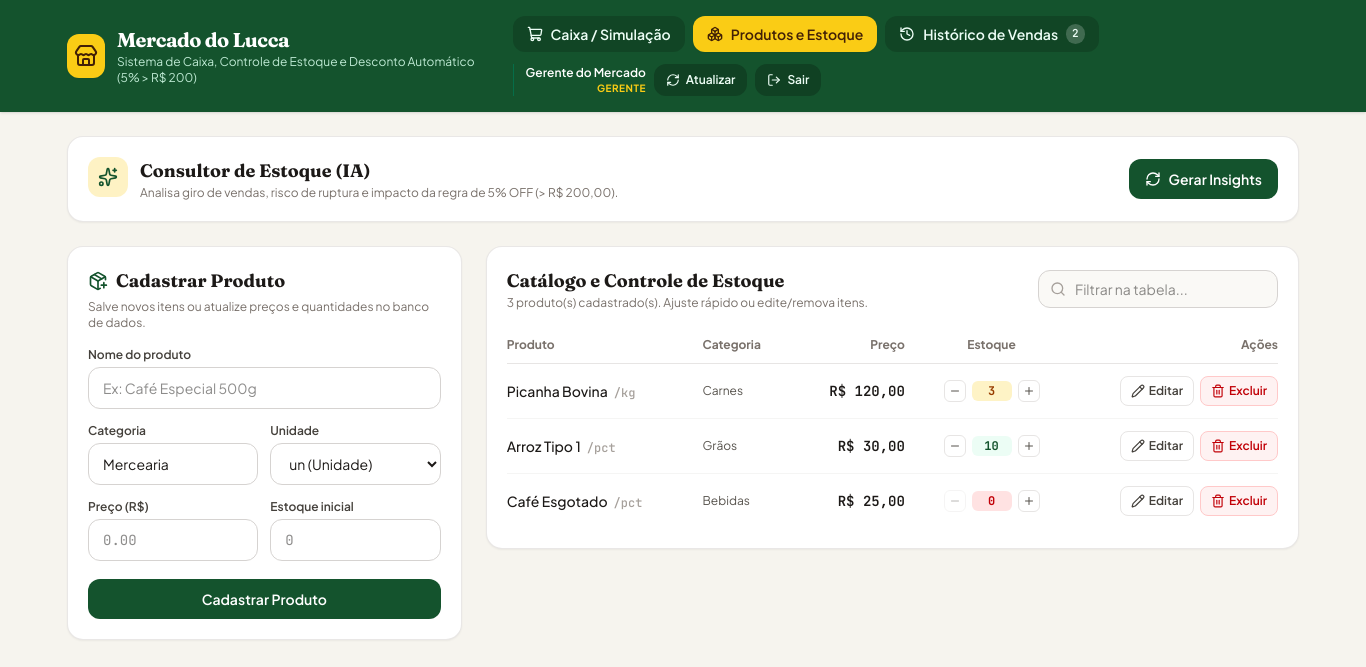
Test case: Mercado do Lucca — Fluxos completos com Auth e RBAC › gera insights de estoque (Gemini, fallback local, erro e reposição rápida)
The image size is (1366, 667).
Check: the heading "Consultor de Estoque (IA)" is shown, box [140,157,371,185]
// Consulta com retorno Gemini AI e reposição rápida
Click the button "Gerar Insights".
click(1203, 179)  # box [1128,159,1278,199]
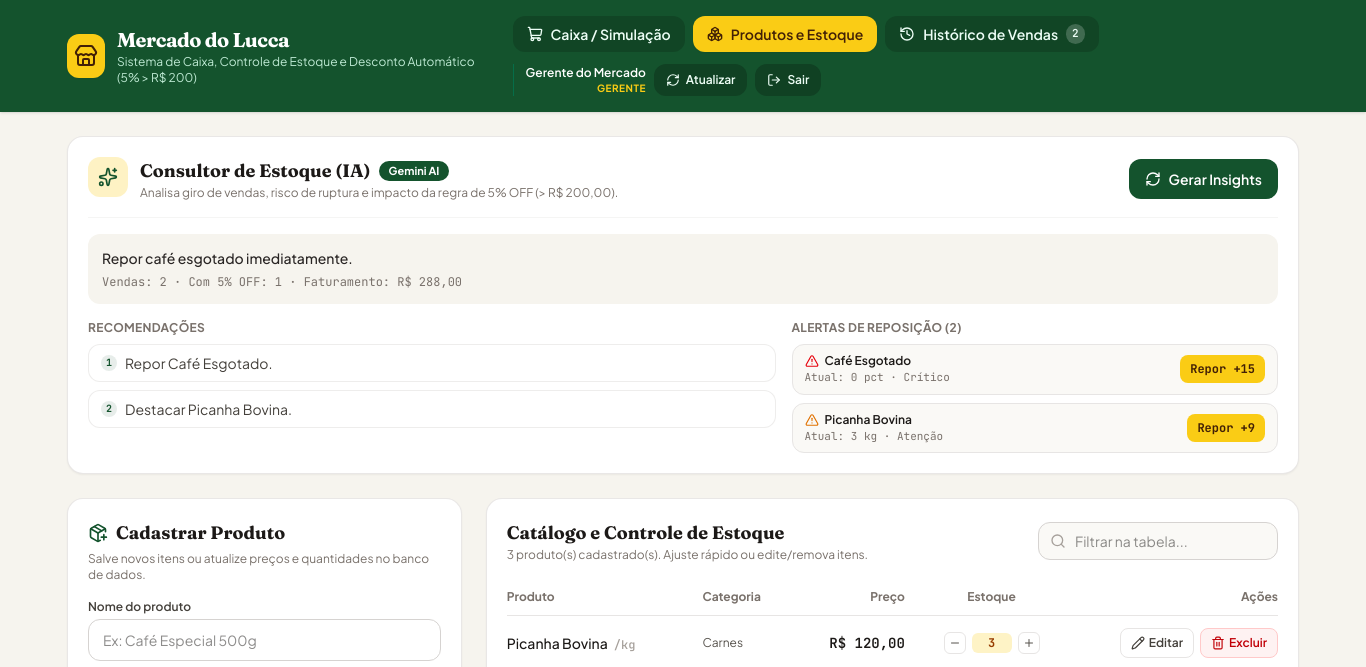
Check: the text "Gemini AI" is shown, box [379,161,449,181]
Check: the text "Repor café esgotado imediatamente." is shown, box [102,249,353,267]
Check: the text "Repor Café Esgotado." is shown, box [125,353,272,373]
Click the button "Repor +15".
click(1223, 369)  # box [1180,355,1265,383]
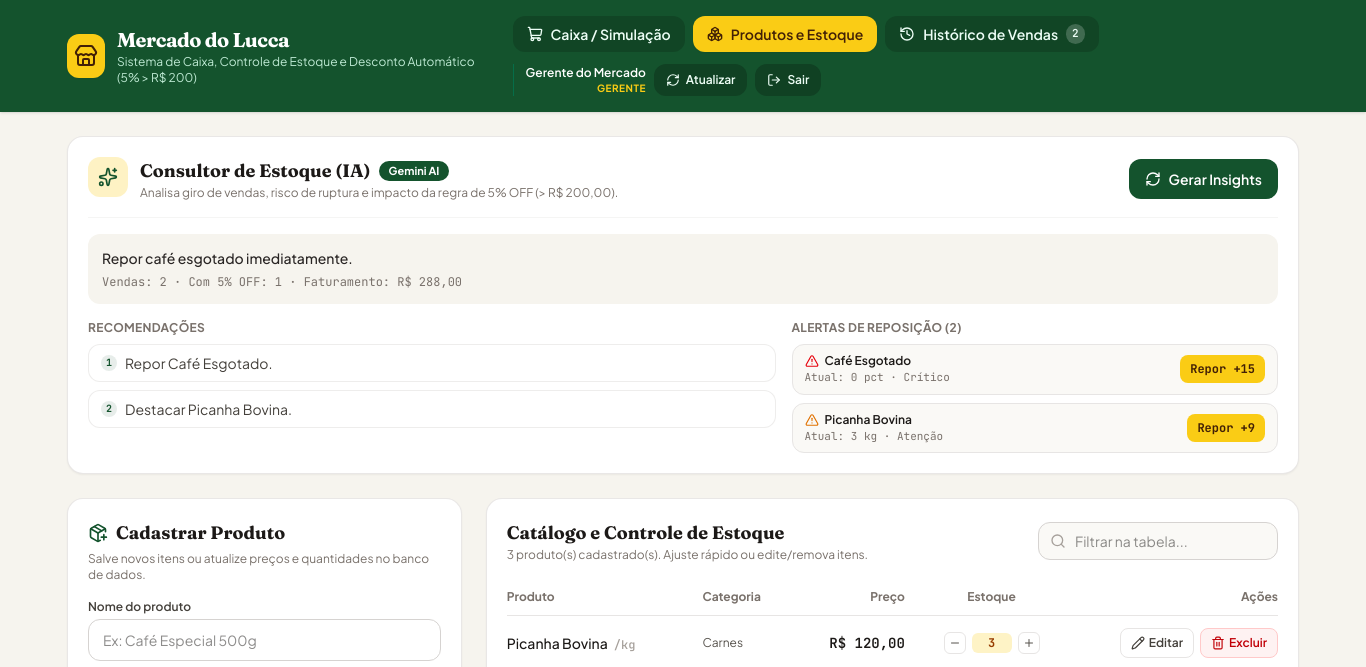
Check: the text "Repor café esgotado imediatamente." is shown, box [102,249,353,267]
Click the button "Gerar Insights".
click(1203, 179)  # box [1128,159,1278,199]
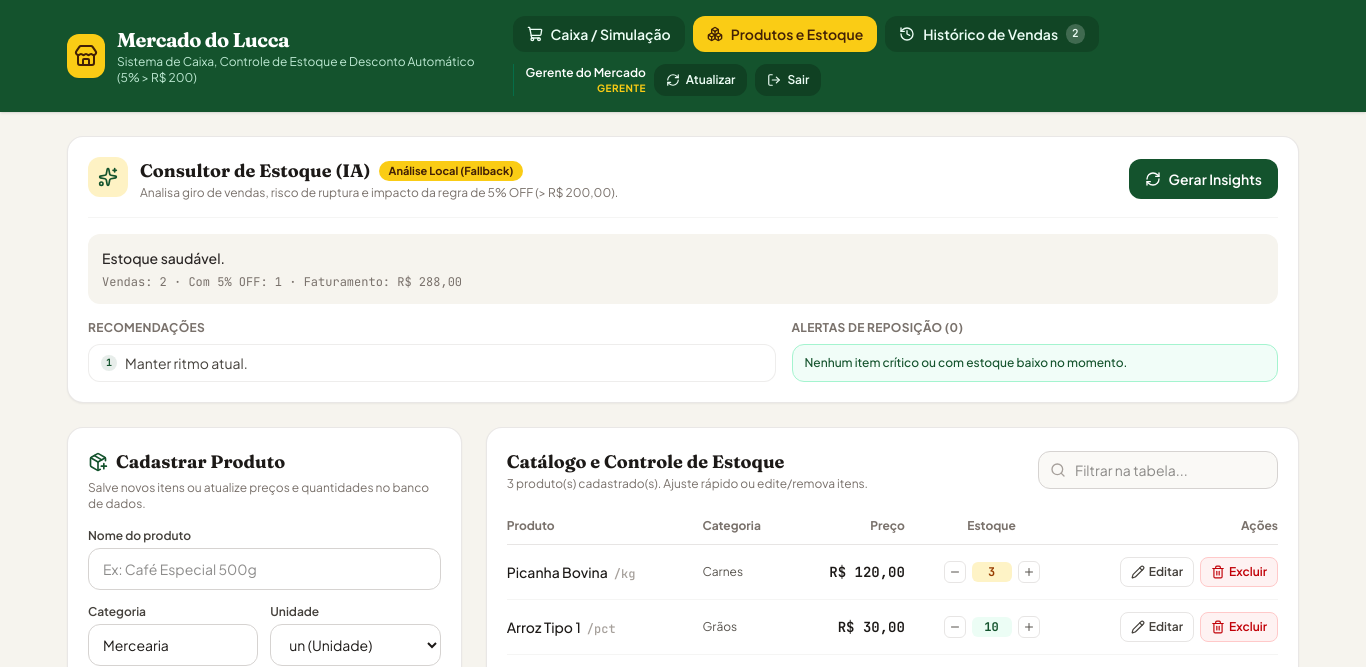
Check: the text "Análise Local (Fallback)" is shown, box [379,161,523,181]
Check: the text "Nenhum item crítico ou com estoque baixo no momento." is shown, box [792,344,1278,382]
Click the button "Gerar Insights".
click(1203, 179)  # box [1128,159,1278,199]
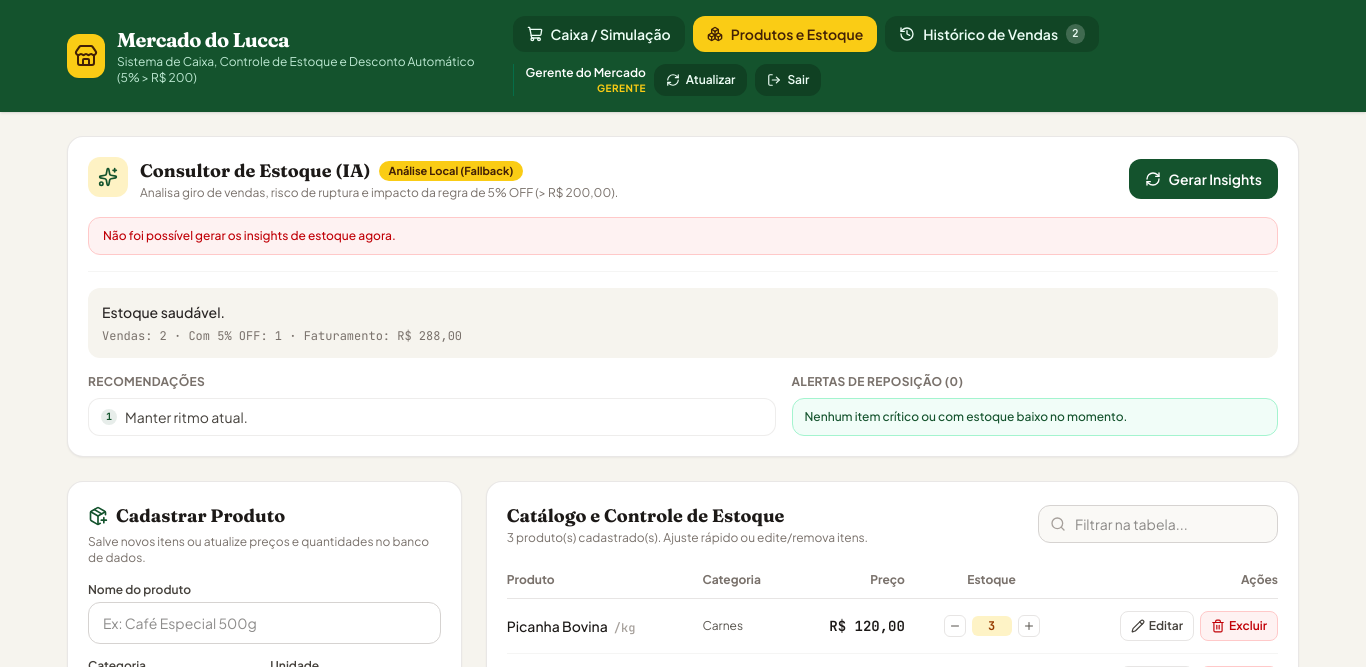
Check: the text "Não foi possível gerar os insights de estoque agora." is shown, box [88,217,1278,255]
